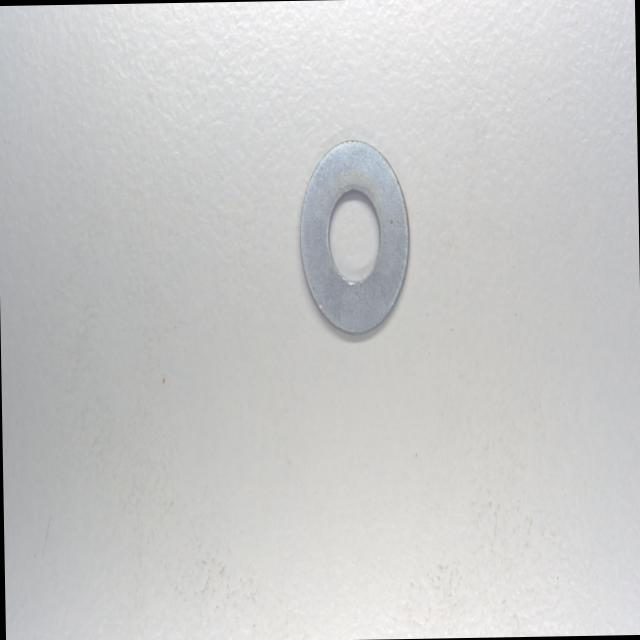washer: (296, 137, 413, 336)
